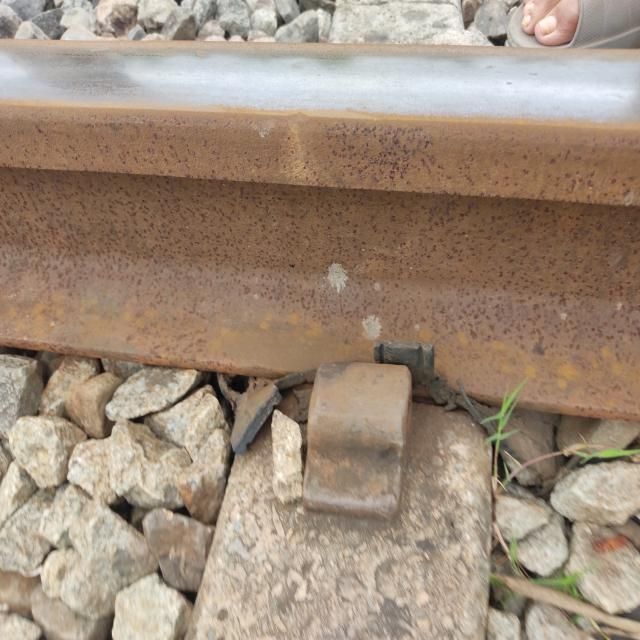fault: (293, 350, 422, 540)
